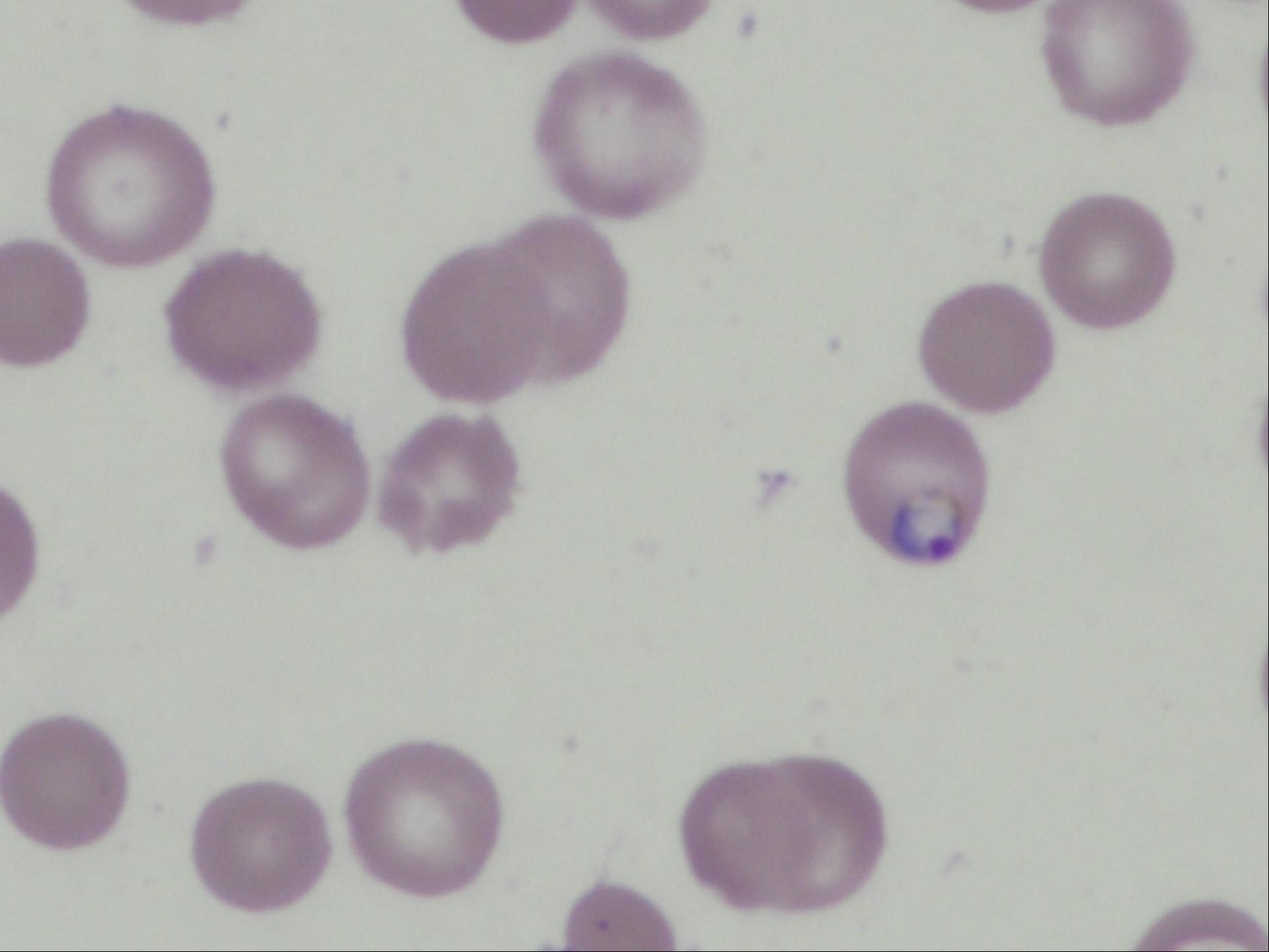Infected: (845, 404, 986, 560)
Uninfected: (406, 217, 622, 403), (683, 758, 881, 910), (537, 53, 700, 215), (50, 109, 210, 263), (347, 743, 497, 893), (222, 397, 367, 544), (167, 252, 319, 388), (379, 415, 518, 552), (1046, 0, 1188, 123), (1042, 194, 1173, 325), (192, 782, 328, 908), (0, 716, 126, 848), (925, 280, 1052, 410), (0, 240, 87, 365)
